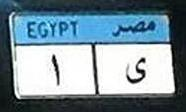1: (48, 52, 64, 86)
yaa: (124, 54, 148, 86)
